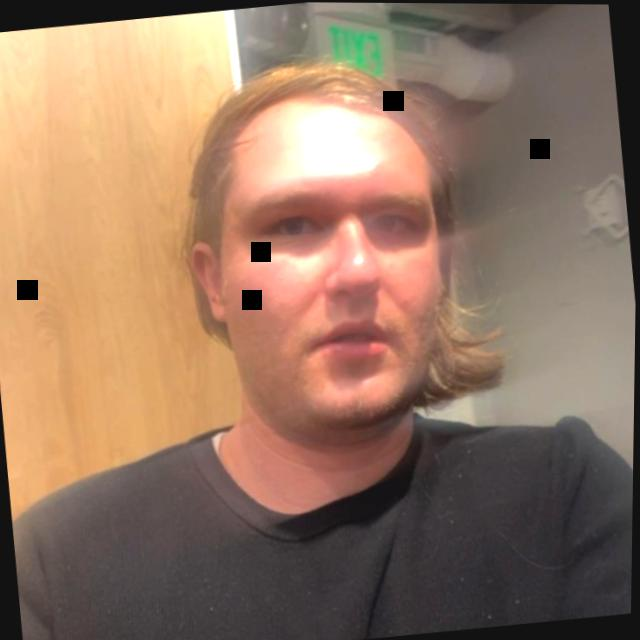NO-Mask: (165, 34, 524, 550)
